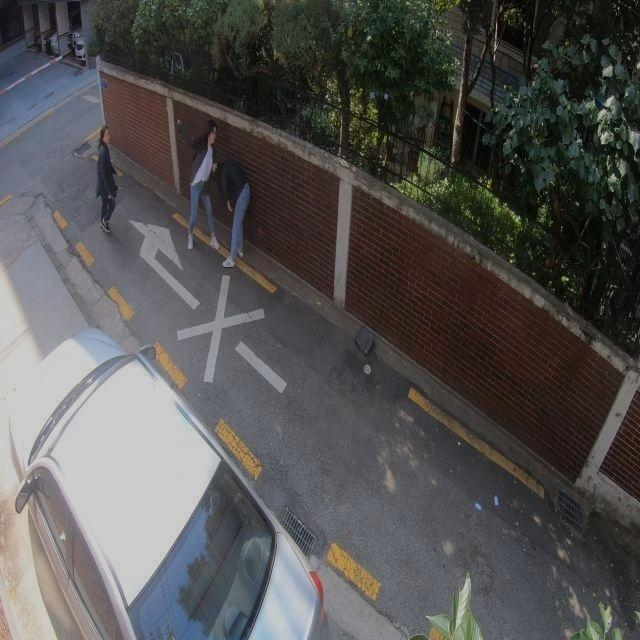fight: (182, 123, 256, 268)
non-fight: (91, 124, 124, 233)
